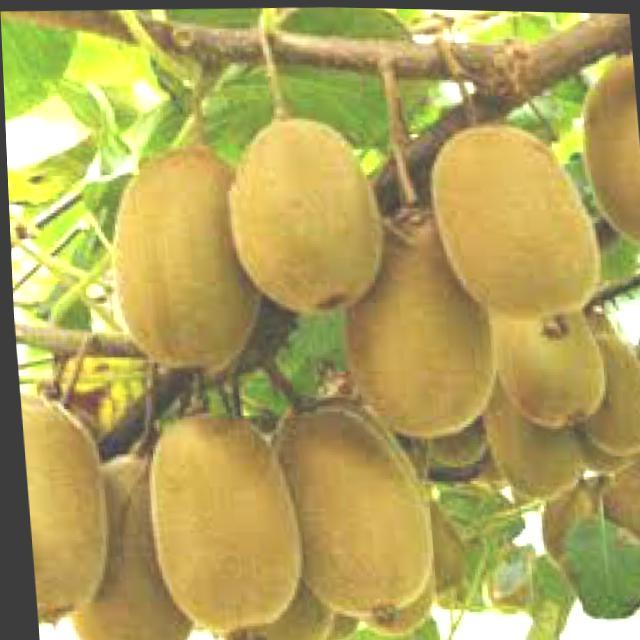kiwi: (425, 116, 601, 324), (332, 207, 487, 442), (265, 398, 428, 620), (140, 406, 298, 633), (217, 114, 379, 321), (105, 148, 254, 371), (49, 447, 193, 640), (17, 389, 107, 620), (476, 330, 584, 492), (481, 282, 602, 421), (572, 48, 640, 239), (564, 292, 640, 457), (529, 470, 612, 570), (592, 452, 640, 545)
